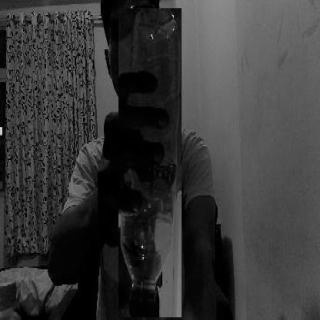plastic_bottles: (118, 8, 182, 318)
